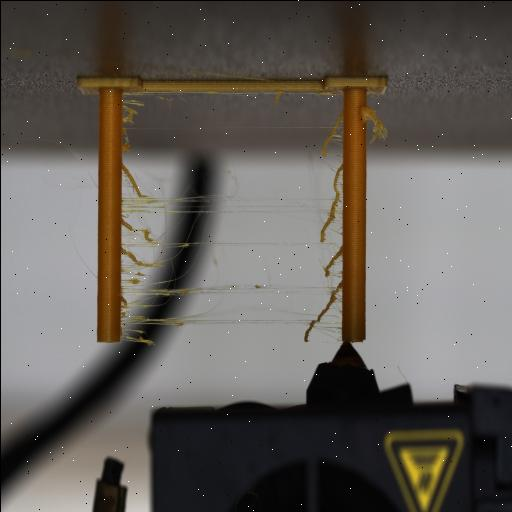stringing: (119, 196, 342, 346)
